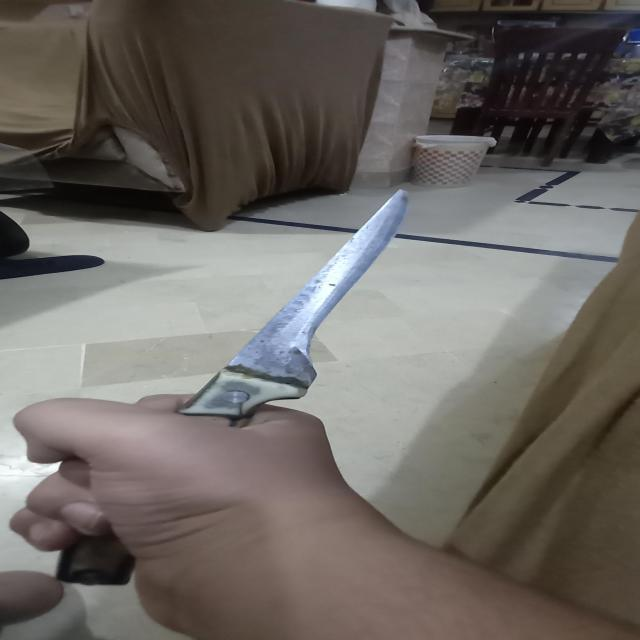knife: (57, 189, 413, 586)
